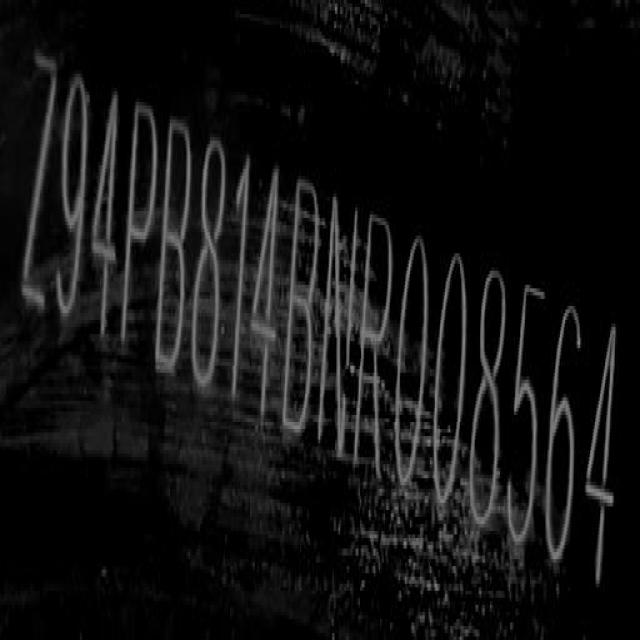0: (390, 228, 433, 498), (430, 245, 470, 511)
1: (225, 150, 256, 414)
4: (584, 321, 626, 598), (244, 163, 287, 429), (85, 80, 127, 350)
5: (508, 277, 546, 561)
6: (543, 300, 581, 579)
8: (468, 262, 509, 534), (188, 128, 229, 397)
9: (46, 61, 94, 340)
B: (152, 106, 197, 381), (279, 172, 323, 446)
N: (318, 195, 360, 451)
P: (116, 92, 163, 368)
R: (353, 212, 397, 474)
Z: (11, 45, 64, 326)
